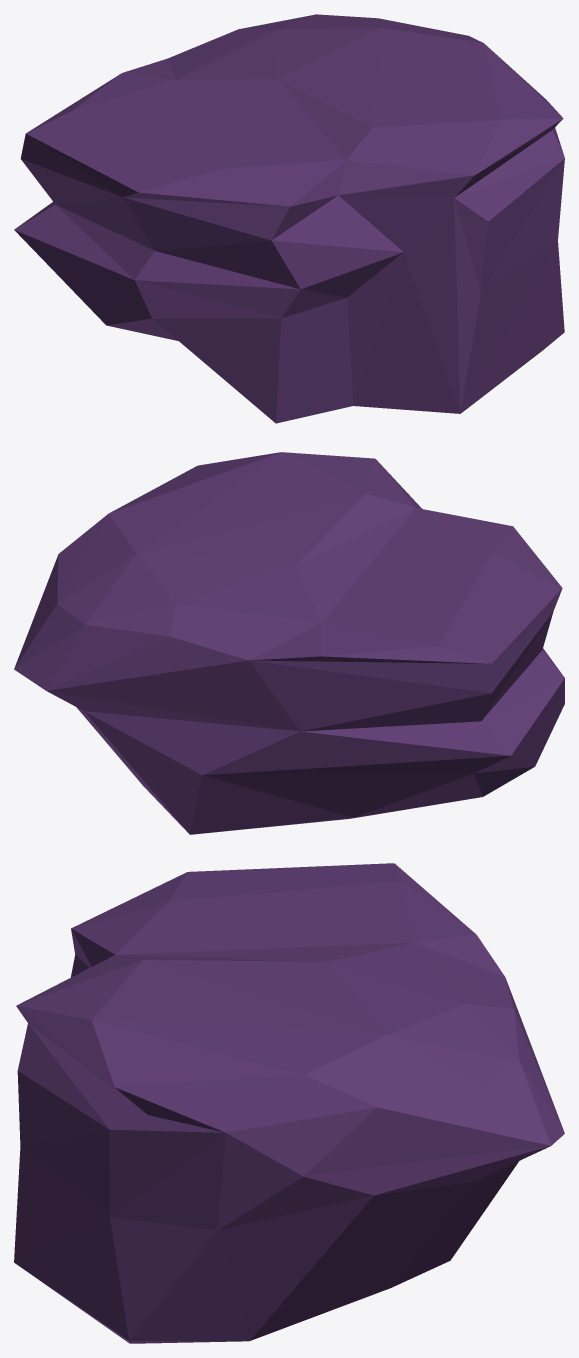
File: Rock_11.fbx
3 renders of one model, top to bottom at view 1: azimuth 30°, elevation 25°; view 2: azimuth 150°, elevation 25°; view 3: azimuth 270°, elevation 25°, orthographic. The views are drawn at different scales.
Parts seen in each view (by area): view 1: rock_model.025; view 2: rock_model.025; view 3: rock_model.025.
Boxes of the visible parts, box(x1,y1,x2,y2) form: rock_model.025: box(14, 14, 564, 423); rock_model.025: box(14, 452, 564, 834); rock_model.025: box(14, 863, 564, 1343).
Bounding box in the file's own units: 290 × 152 × 260.
